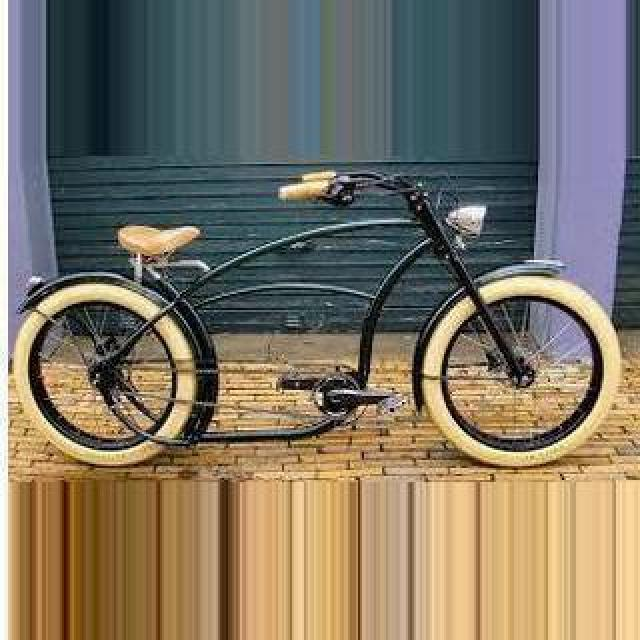Person: (18, 164, 624, 464)
